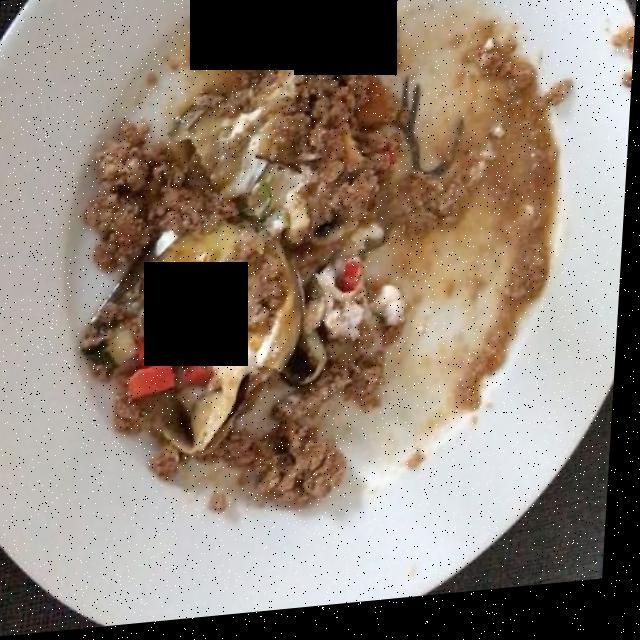beef: (101, 48, 453, 500)
vegetables-baked: (98, 40, 375, 468)
